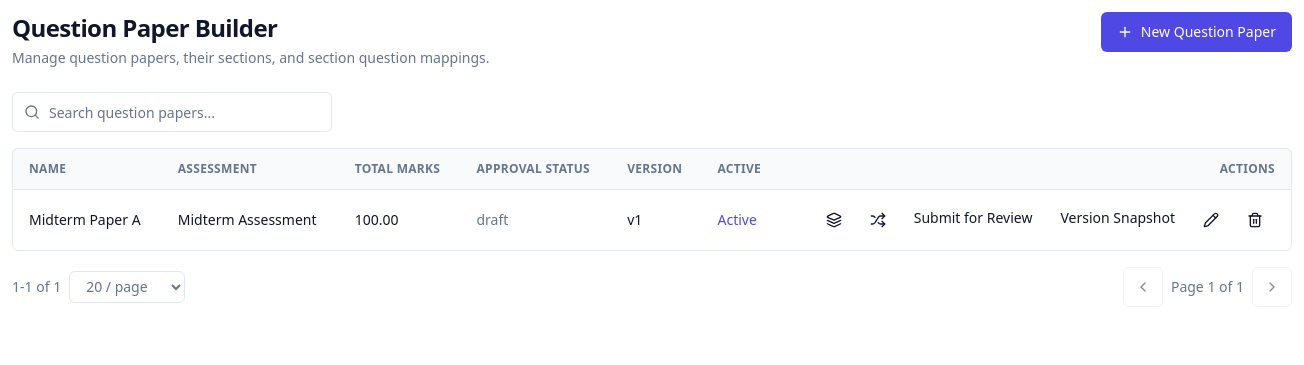
Test: QuestionPaperBuilderPage › drills down from papers to sections to question mappings
Expected: the text "Midterm Paper A" is shown, [13,189,162,250]
Click the button named "Manage sections for Midterm Paper A": click(834, 220) [814,200,854,240]
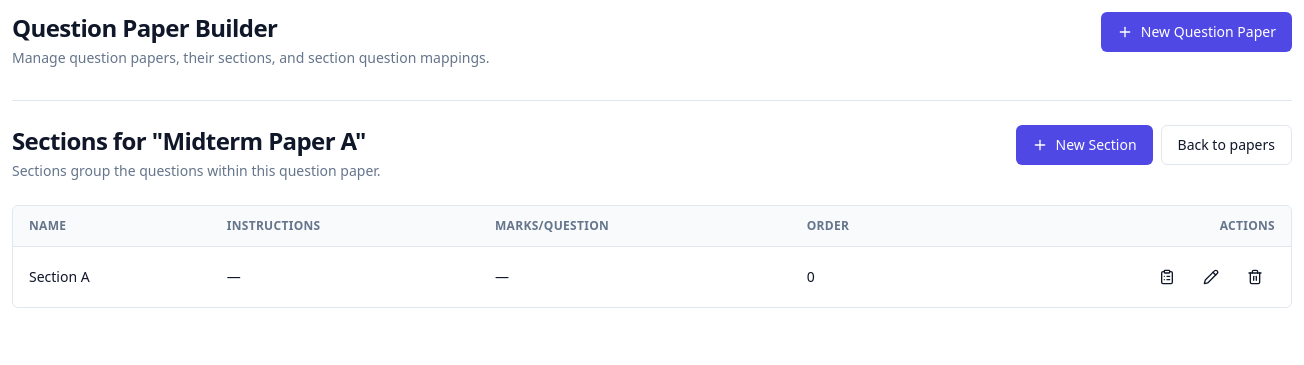
Now the heading "Sections for \"Midterm Paper A\"" is shown, box [12,125,381,157]
Now the text "Section A" is shown, box [13,246,211,306]
Click the button named "Manage questions for Section A": click(1167, 276) [1147,256,1187,296]
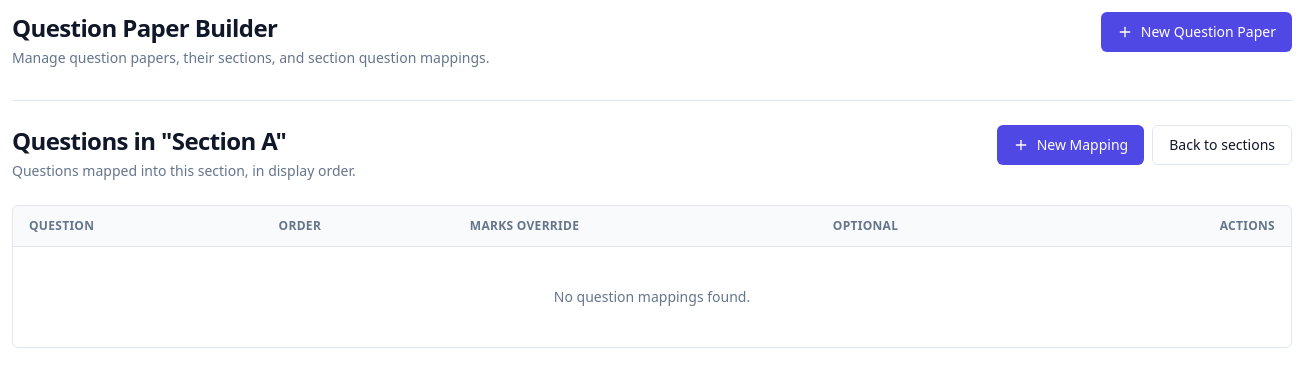
Now the heading "Questions in \"Section A\"" is shown, box [12,124,286,157]
Now the text "No question mappings found." is shown, box [13,246,1291,346]
